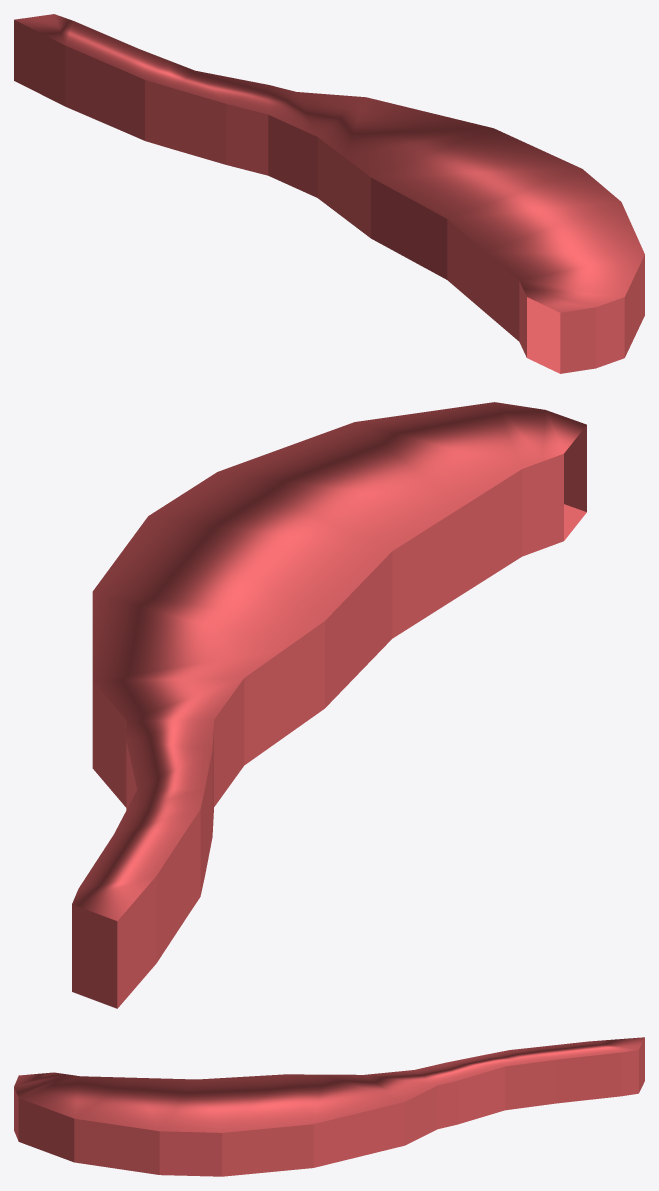
File: stomach.glb
The picture shows the model from 3 angles, top to bottom: view 1: azimuth 30°, elevation 25°; view 2: azimuth 150°, elevation 25°; view 3: azimuth 270°, elevation 25°; orthographic projection. The views are drawn at different scales.
Parts seen in each view (by area): view 1: stomach; view 2: stomach; view 3: stomach.
Boxes of the visible parts, <box> form: stomach: <box>14,14,644,373</box>; stomach: <box>72,402,586,1008</box>; stomach: <box>14,1037,644,1176</box>.
Size of the model in its own units: 1.9 by 0.4059 by 5.3.
